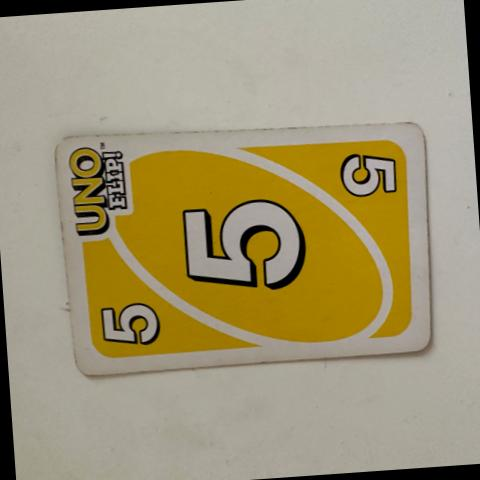reverse_green: (167, 194, 320, 291), (92, 304, 171, 352), (340, 147, 406, 204)
